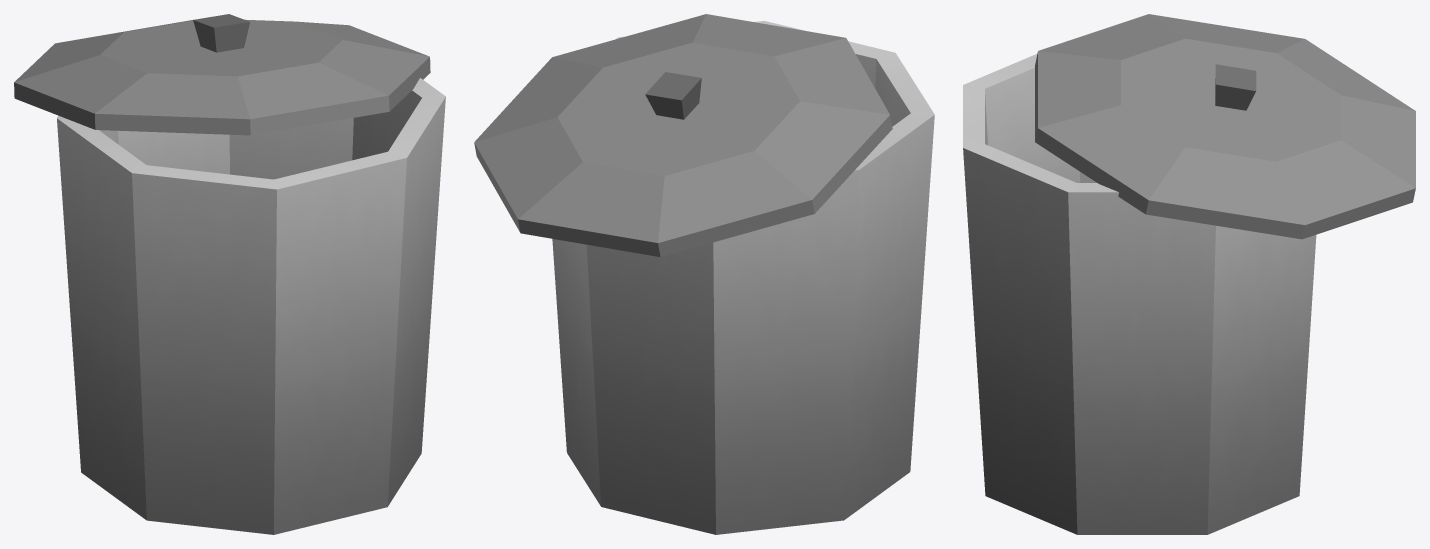
File: TrashCan.fbx
3 views of the same model, side by side, from view 1: azimuth 30°, elevation 25°; view 2: azimuth 150°, elevation 25°; view 3: azimuth 270°, elevation 25° (orthographic).
Parts seen in each view (by area): view 1: Tarshcan; view 2: Tarshcan; view 3: Tarshcan.
Boxes of the visible parts, x1=… form: Tarshcan: x1=14, y1=14, x2=445, y2=534; Tarshcan: x1=474, y1=14, x2=934, y2=534; Tarshcan: x1=963, y1=14, x2=1415, y2=534.
Bounding box in the file's own units: 199 × 230 × 233.
